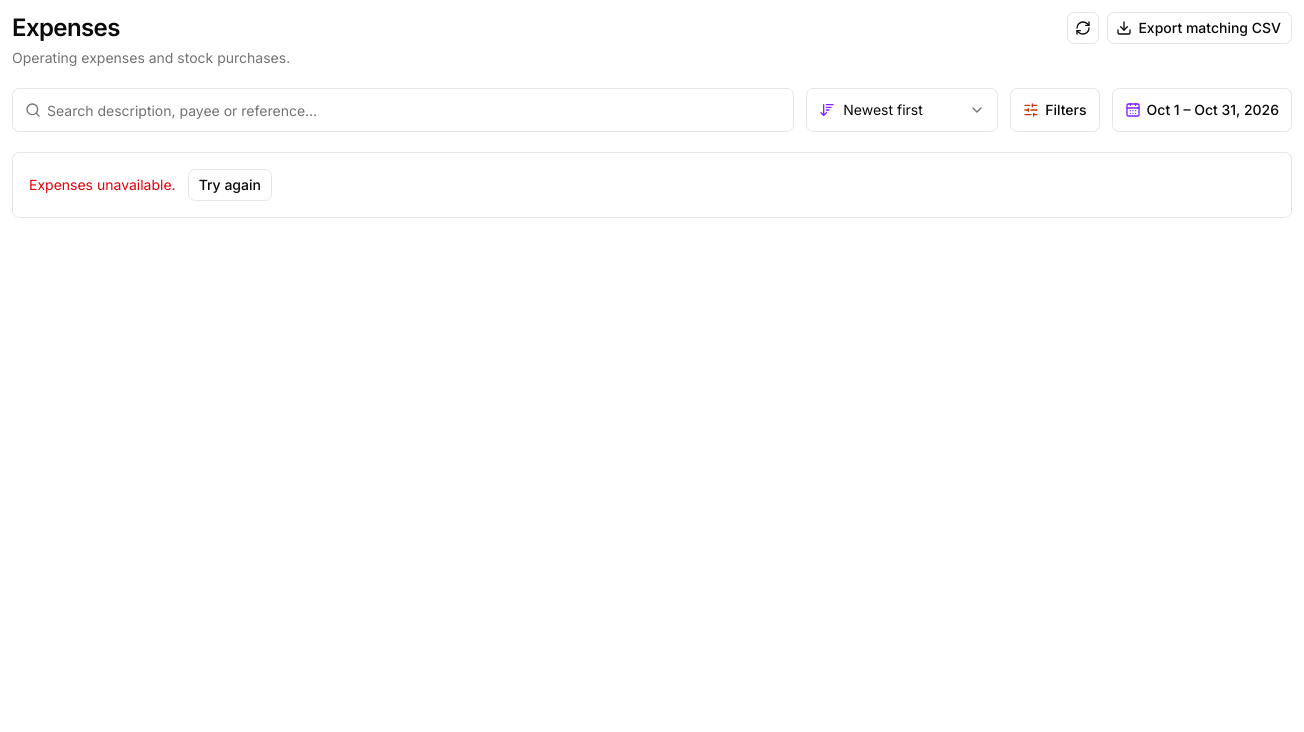
Expenses workspace › offers retry without pretending an error is an empty list
Step 1. Click the button "Try again" → click(230, 185), box [188,169,272,201]
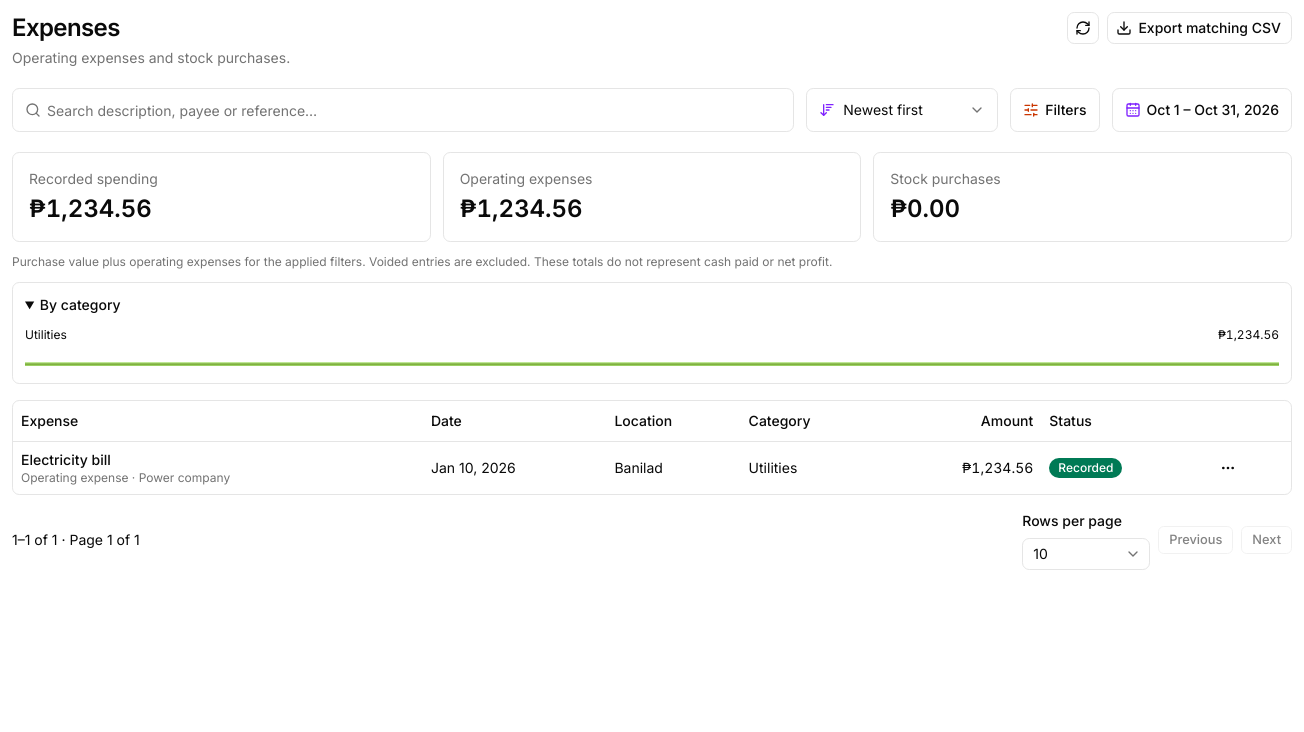
Expected: the text "Electricity bill" is shown, [21,450,111,468]
